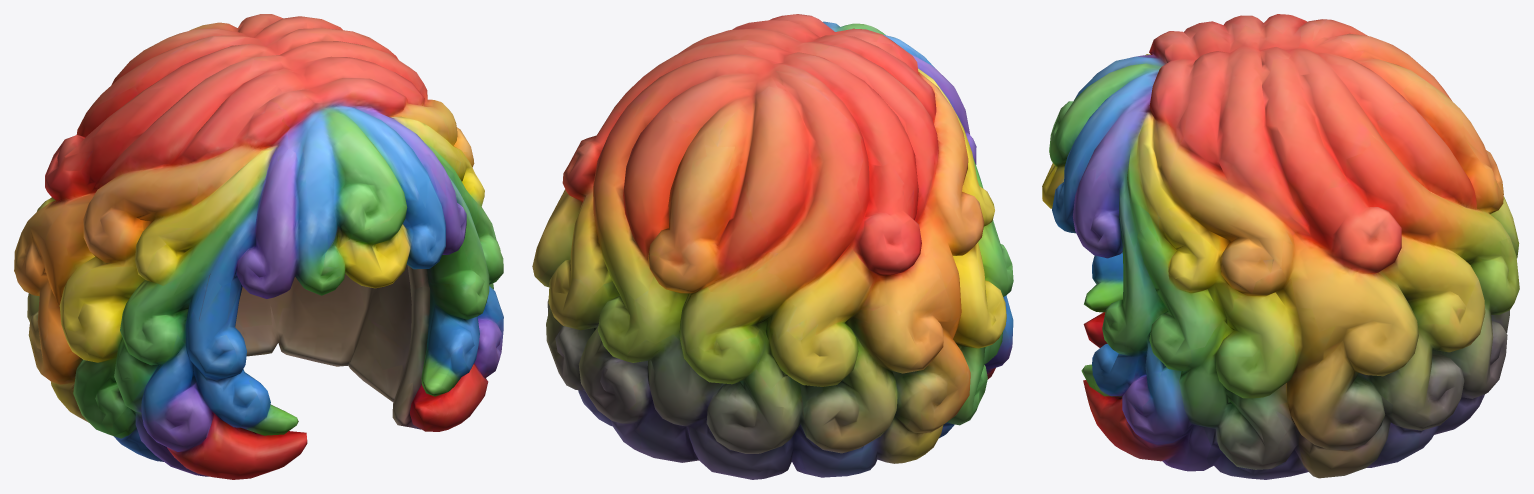
Rendered from av-wig-rainbow.glb.
3 renders of one model, left to right at view 1: azimuth 30°, elevation 25°; view 2: azimuth 150°, elevation 25°; view 3: azimuth 270°, elevation 25°, orthographic. The views are drawn at different scales.
Parts seen in each view (by area): view 1: tripo_node_7c32509c-4018-4fe2-9331-e5cee5cca209; view 2: tripo_node_7c32509c-4018-4fe2-9331-e5cee5cca209; view 3: tripo_node_7c32509c-4018-4fe2-9331-e5cee5cca209.
Part boxes in pixels (<box>): tripo_node_7c32509c-4018-4fe2-9331-e5cee5cca209: <box>14,14,503,479</box>; tripo_node_7c32509c-4018-4fe2-9331-e5cee5cca209: <box>532,14,1013,479</box>; tripo_node_7c32509c-4018-4fe2-9331-e5cee5cca209: <box>1042,14,1519,479</box>.
Bounding box in the file's own units: 1 × 0.8496 × 0.9864.
Materials: 1 (1 with a texture image).
